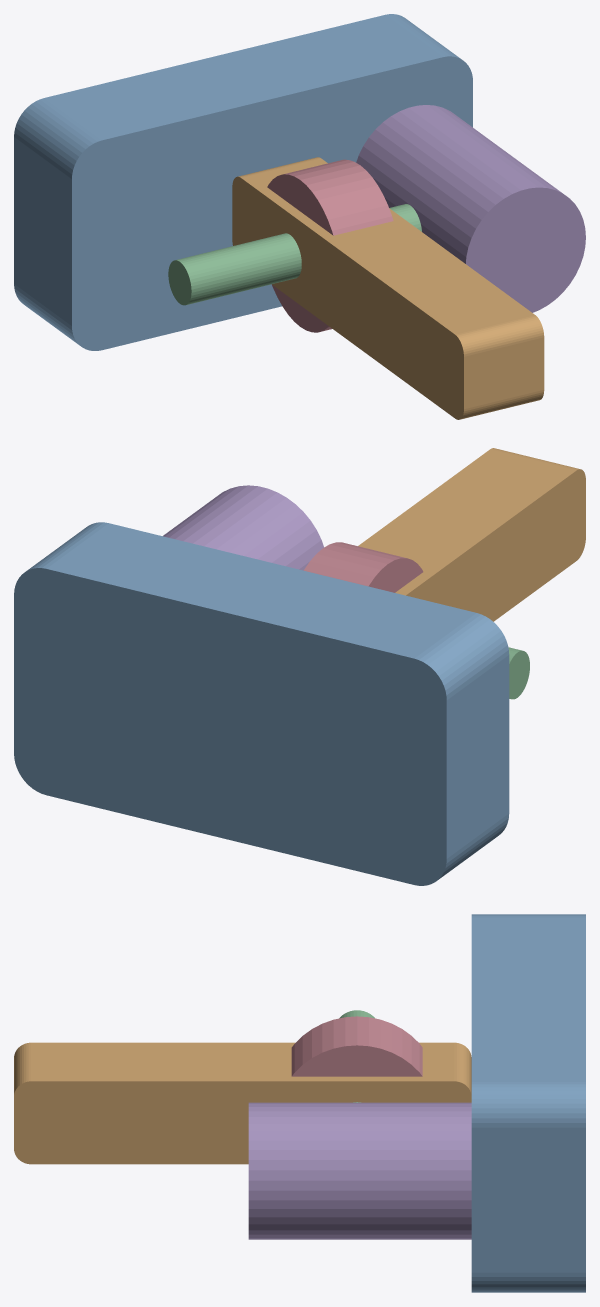
The model's file is demo.glb.
3 views of the same model, one above another, from view 1: azimuth 30°, elevation 25°; view 2: azimuth 150°, elevation 25°; view 3: azimuth 270°, elevation 25° (orthographic). The views are drawn at different scales.
Visible parts, largest first — view 1: base, arm, overlap_post, drum, pin; view 2: base, arm, overlap_post, drum, pin; view 3: base, arm, overlap_post, drum.
Part boxes in pixels (box(x1,y1,x2,y2)): base: box(14, 14, 472, 350); arm: box(232, 157, 544, 419); overlap_post: box(356, 105, 585, 312); drum: box(267, 159, 393, 332); pin: box(168, 204, 421, 305); base: box(14, 522, 509, 885); arm: box(358, 448, 585, 621); overlap_post: box(163, 485, 324, 570); drum: box(304, 542, 423, 592); pin: box(508, 647, 529, 699); base: box(471, 914, 585, 1292); arm: box(14, 1042, 471, 1164); overlap_post: box(248, 1102, 471, 1239); drum: box(291, 1016, 422, 1076).
Bounding box in the file's own units: 40 × 20 × 50.
